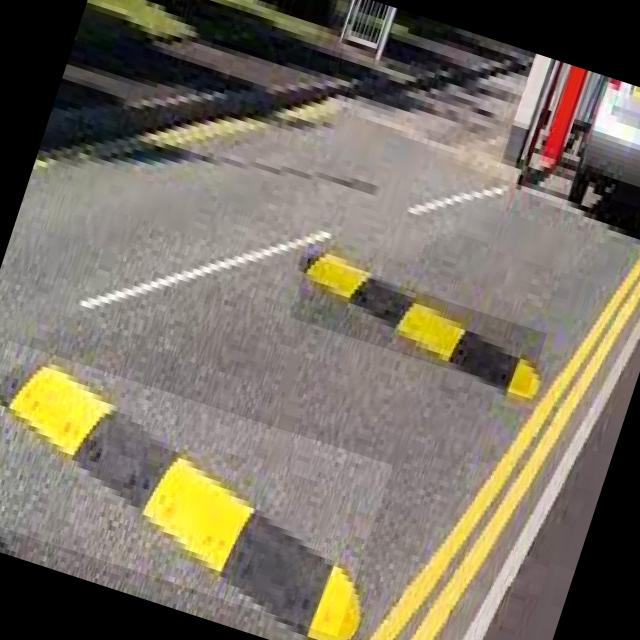bump: (0, 341, 392, 637), (289, 256, 547, 394)
